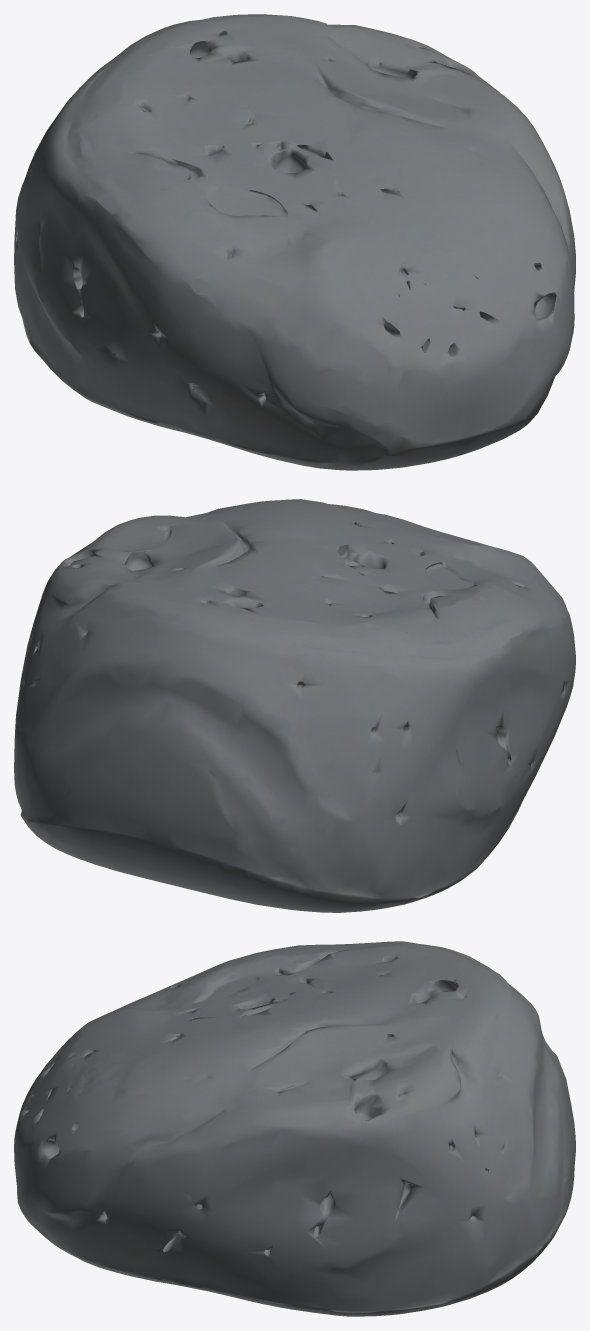
File: small_rock.glb
3 views of the same model, one above another, from view 1: azimuth 30°, elevation 25°; view 2: azimuth 150°, elevation 25°; view 3: azimuth 270°, elevation 25° (orthographic). The views are drawn at different scales.
Visible parts, largest first — view 1: tripo_node_26ebbc9b-06cf-4525-99fc-bfecc17c61e6; view 2: tripo_node_26ebbc9b-06cf-4525-99fc-bfecc17c61e6; view 3: tripo_node_26ebbc9b-06cf-4525-99fc-bfecc17c61e6.
Part boxes in pixels (<box>): tripo_node_26ebbc9b-06cf-4525-99fc-bfecc17c61e6: <box>14,14,575,470</box>; tripo_node_26ebbc9b-06cf-4525-99fc-bfecc17c61e6: <box>14,499,575,912</box>; tripo_node_26ebbc9b-06cf-4525-99fc-bfecc17c61e6: <box>14,941,575,1316</box>.
Bounding box in the file's own units: 0.7899 × 0.4932 × 1.
Materials: 1 (1 with a texture image).
